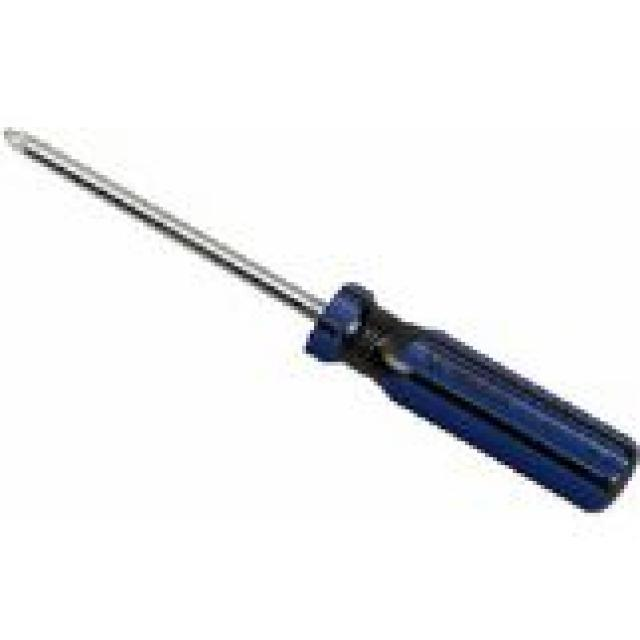screwdriver: (1, 113, 640, 516)
